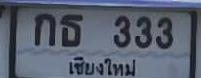3: (134, 15, 151, 47), (155, 16, 172, 48), (113, 14, 130, 46)
A01: (34, 13, 55, 45)
A24: (60, 13, 82, 46)
CMI: (63, 55, 139, 77)
